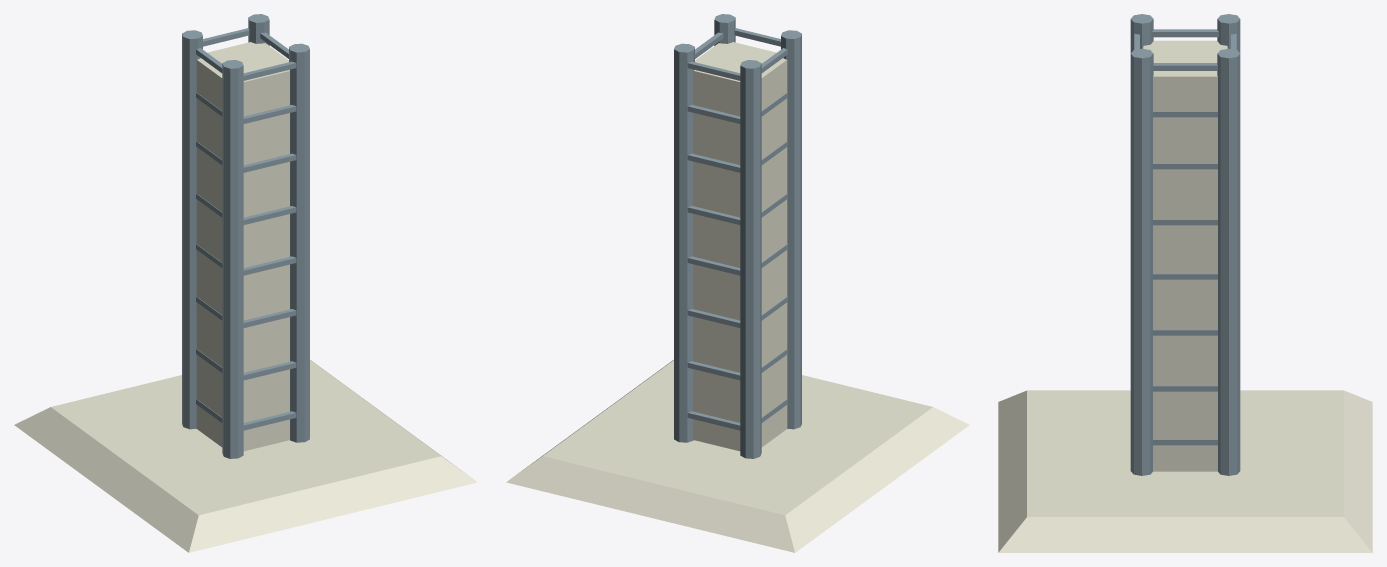
Rendered from Demir_Kolon.fbx.
The picture shows the model from 3 angles, left to right: view 1: azimuth 30°, elevation 25°; view 2: azimuth 150°, elevation 25°; view 3: azimuth 270°, elevation 25°; orthographic projection. The views are drawn at different scales.
Visible parts, largest first — view 1: Cube.001; view 2: Cube.001; view 3: Cube.001.
Part boxes in pixels (x1,y1,x2,y2): Cube.001: [14, 14, 477, 552]; Cube.001: [506, 14, 969, 552]; Cube.001: [998, 14, 1372, 552].
Size of the model in its own units: 69 by 94.04 by 72.29.
